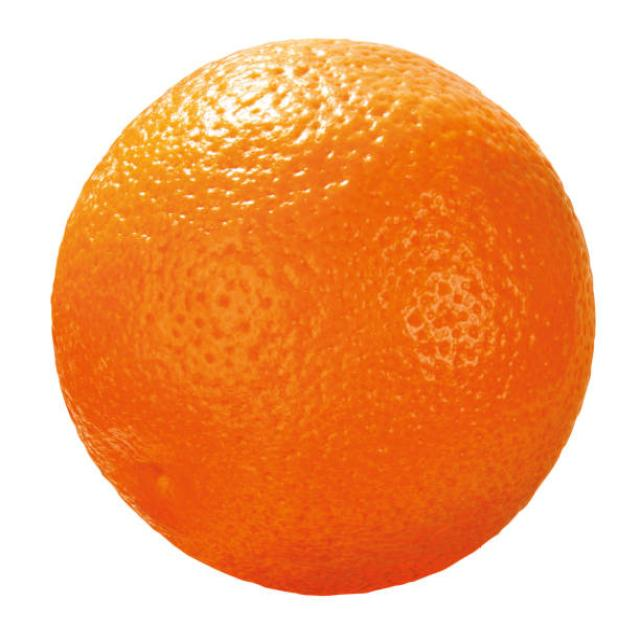Ripe: (46, 29, 602, 602)
